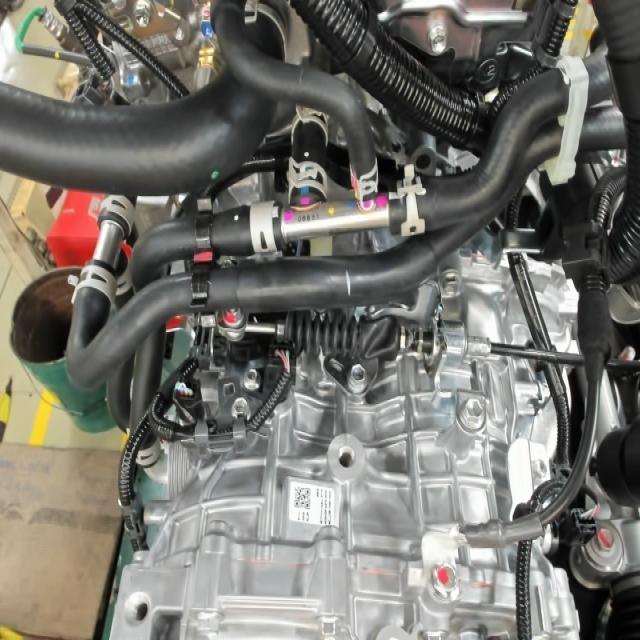Transaxele-C87-A27: (293, 502, 333, 534)
